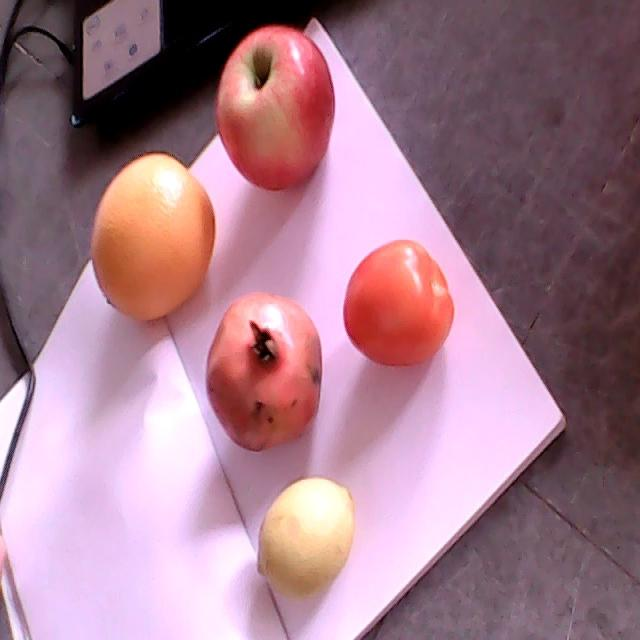apple: (215, 26, 335, 191)
lemon: (257, 477, 355, 597)
orange: (92, 153, 216, 321)
pomegranate: (207, 291, 322, 451)
tomato: (344, 241, 452, 366)
